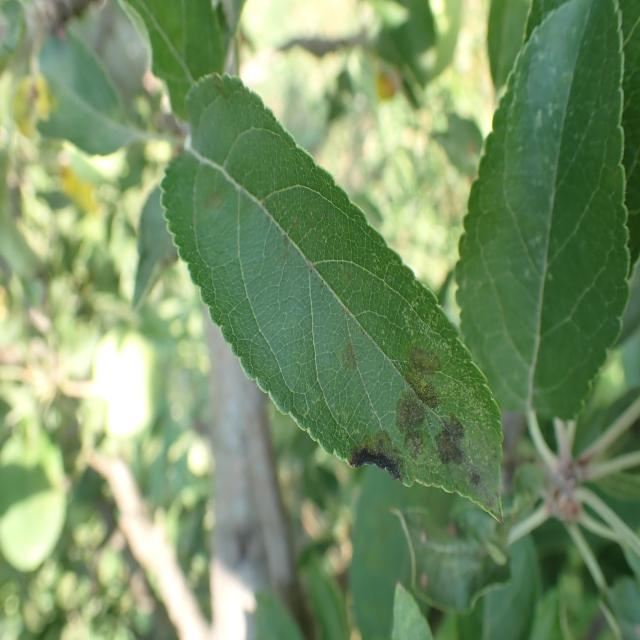scab: (190, 138, 478, 488), (505, 23, 607, 381)
